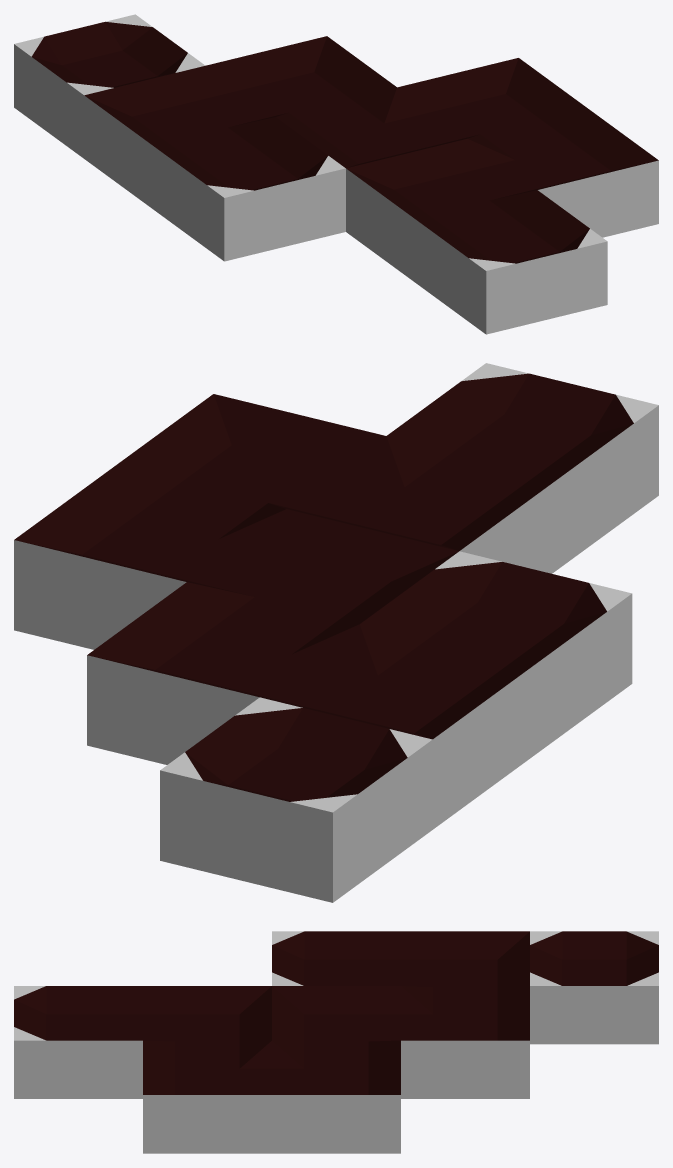
Rendered from 67s_path.obj.
3 views of the same model, one above another, from view 1: azimuth 30°, elevation 25°; view 2: azimuth 150°, elevation 25°; view 3: azimuth 270°, elevation 25° (orthographic). The views are drawn at different scales.
Visible parts, largest first — view 1: ending.0.2_ending.565, ending.1.0_ending.566, corner.0.3_corner.1402, corner.1.1_corner.1403, corner.2.1_corner.1406, hole.0.4_Cube.284, corner.1.3_corner.1405, corner.2.2_corner.1407, corner.1.2_corner.1404; view 2: hole.0.4_Cube.284, ending.0.2_ending.565, ending.1.0_ending.566, corner.1.3_corner.1405, corner.2.2_corner.1407, corner.2.1_corner.1406, corner.0.3_corner.1402, corner.1.2_corner.1404, corner.1.1_corner.1403; view 3: hole.0.4_Cube.284, ending.1.0_ending.566, corner.2.1_corner.1406, corner.2.2_corner.1407, corner.1.3_corner.1405, corner.0.3_corner.1402, corner.1.1_corner.1403, corner.1.2_corner.1404, ending.0.2_ending.565.
Boxes of the visible parts, <box> form: ending.0.2_ending.565: <box>154,117,345,261</box>; ending.1.0_ending.566: <box>416,190,607,334</box>; corner.0.3_corner.1402: <box>84,65,275,209</box>; corner.1.1_corner.1403: <box>346,139,536,282</box>; corner.2.1_corner.1406: <box>468,109,658,237</box>; hole.0.4_Cube.284: <box>14,14,204,158</box>; corner.1.3_corner.1405: <box>206,36,396,125</box>; corner.2.2_corner.1407: <box>397,58,588,146</box>; corner.1.2_corner.1404: <box>276,87,465,168</box>; hole.0.4_Cube.284: <box>160,697,432,902</box>; ending.0.2_ending.565: <box>360,551,632,756</box>; ending.1.0_ending.566: <box>387,363,658,568</box>; corner.1.3_corner.1405: <box>87,582,359,764</box>; corner.2.2_corner.1407: <box>14,467,286,649</box>; corner.2.1_corner.1406: <box>114,394,385,520</box>; corner.0.3_corner.1402: <box>262,624,532,829</box>; corner.1.2_corner.1404: <box>187,509,458,636</box>; corner.1.1_corner.1403: <box>288,436,559,573</box>; hole.0.4_Cube.284: <box>530,931,658,1044</box>; ending.1.0_ending.566: <box>14,986,142,1098</box>; corner.2.1_corner.1406: <box>143,1040,271,1153</box>; corner.2.2_corner.1407: <box>272,1040,400,1153</box>; corner.1.3_corner.1405: <box>401,986,529,1098</box>; corner.0.3_corner.1402: <box>401,931,529,1000</box>; corner.1.1_corner.1403: <box>143,986,271,1054</box>; corner.1.2_corner.1404: <box>272,986,400,1054</box>; ending.0.2_ending.565: <box>272,931,400,985</box>.
Bounding box in the file's own units: 6 × 1 × 10.
